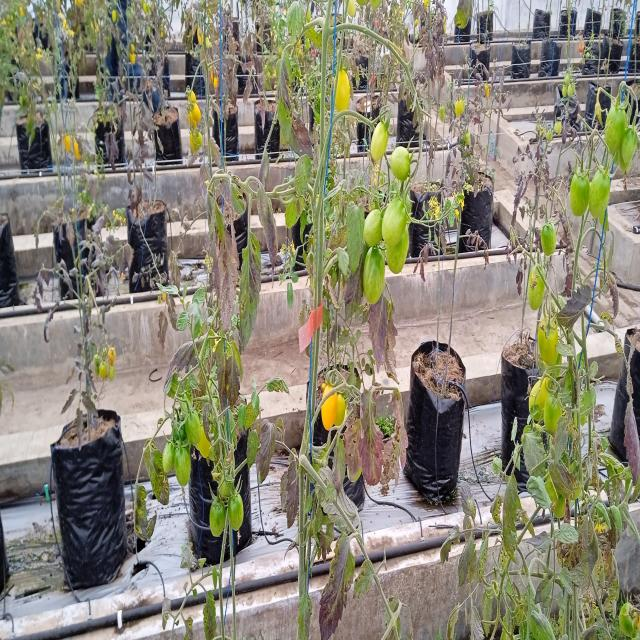fine: (333, 65, 352, 116), (322, 381, 338, 432), (190, 101, 202, 125)
unripe: (535, 312, 560, 372), (383, 193, 408, 248), (588, 165, 613, 218), (363, 247, 385, 306), (605, 99, 625, 156), (363, 201, 386, 249), (570, 166, 589, 224), (367, 116, 390, 162), (390, 145, 413, 187), (528, 260, 544, 316), (621, 122, 639, 169), (539, 217, 558, 261), (174, 442, 191, 488), (228, 487, 244, 535), (209, 493, 226, 537), (185, 407, 202, 449), (162, 434, 175, 476)
